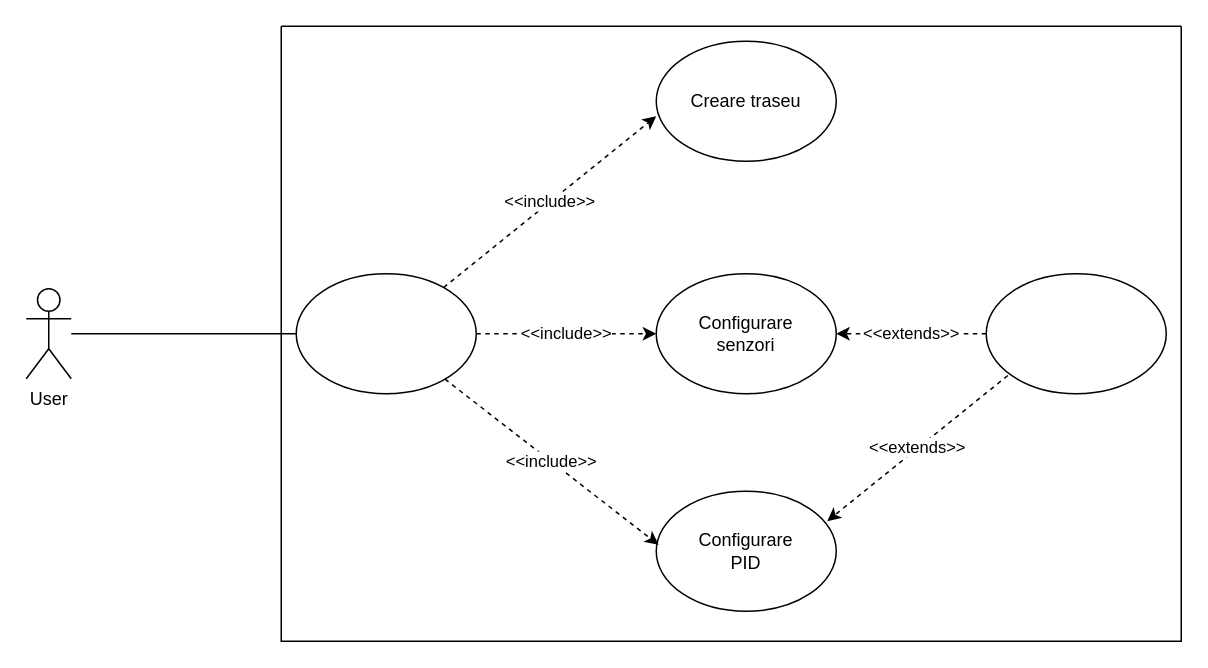
Some shapes in this 1208 by 668 pixel diagram are drawn without their labels. The shapes that lost their labels are listed below. From the top down, each one's box as (x1, y1, x2, y2) in pixels, then its label:
(295, 272, 476, 394): Pornire Platformă
(985, 272, 1166, 394): Urmărire date prin scripturi Matlab
